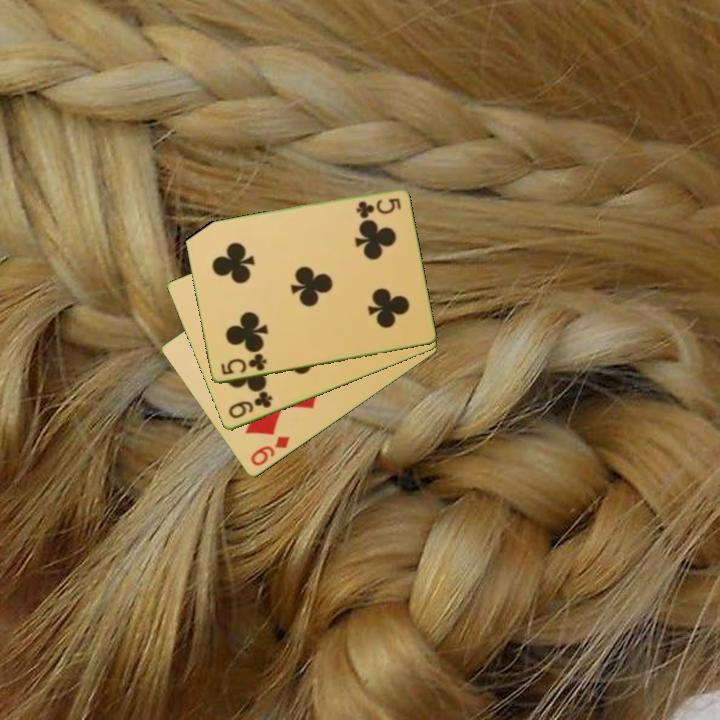5c: (217, 350, 270, 378), (353, 195, 404, 220)
9c: (225, 389, 275, 422)
9d: (247, 433, 293, 469)
